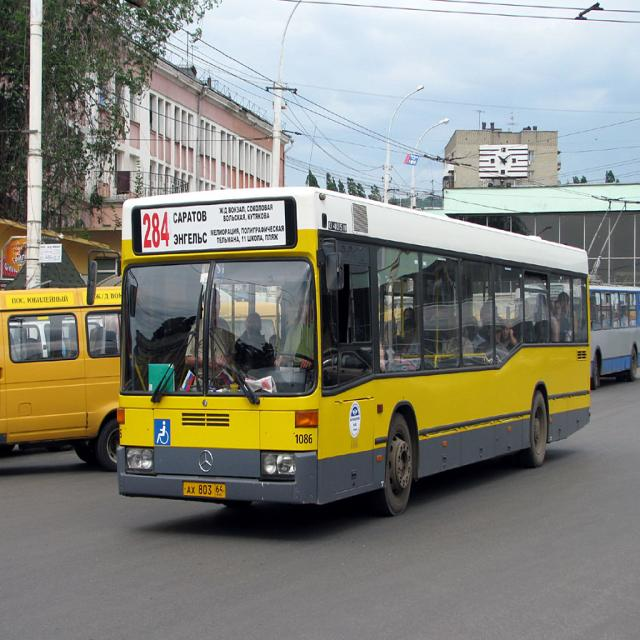number-of-bus: (141, 207, 173, 256)
